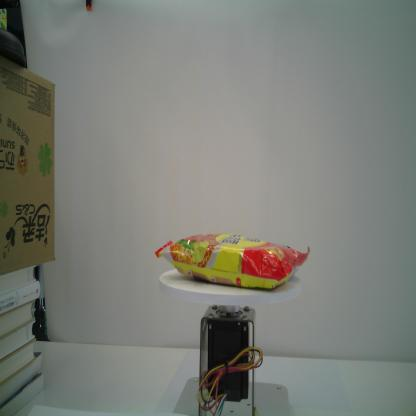Instant Noodles: (154, 231, 310, 292)
